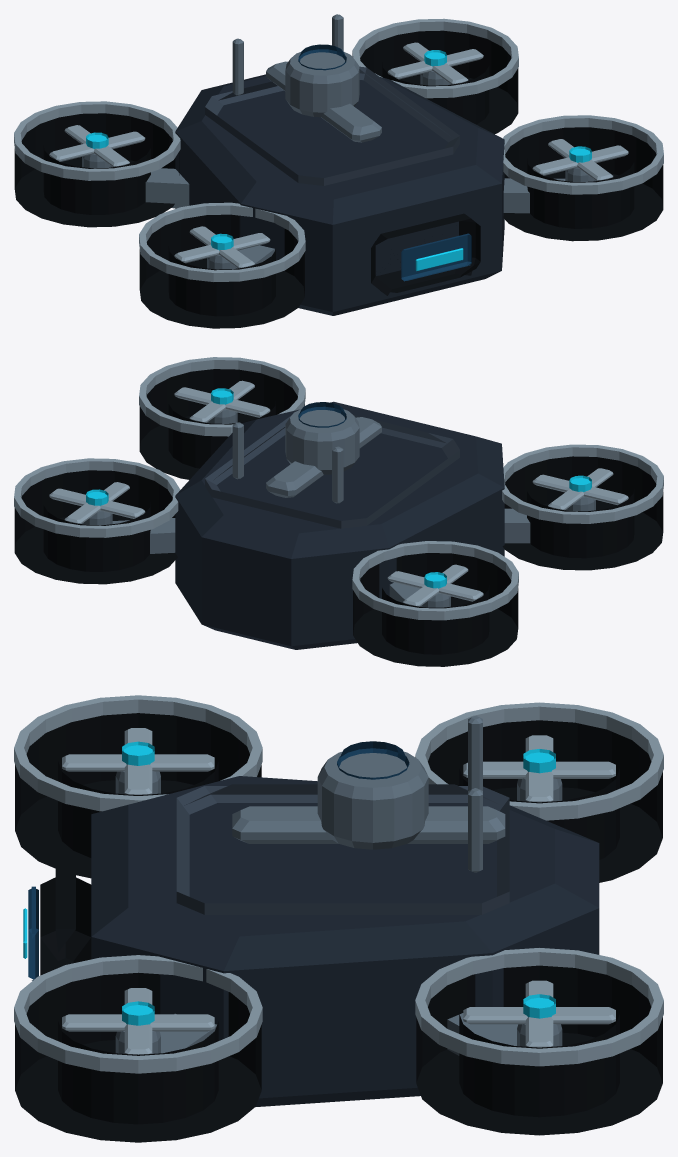
File: SF_ScoutDrone.obj
3 renders of one model, top to bottom at view 1: azimuth 30°, elevation 25°; view 2: azimuth 150°, elevation 25°; view 3: azimuth 270°, elevation 25°, orthographic. The views are drawn at different scales.
Parts seen in each view (by area): view 1: Chassis, Duct1, Duct2, Duct0, Duct3, ArmourTop, DuctAccent2, SensorMast, DuctAccent1, DuctAccent0, DuctAccent3, FrontSensorHousing (+10 smaller); view 2: Chassis, Duct2, Duct3, Duct0, Duct1, DuctAccent2, DuctAccent3, DuctAccent0, ArmourTop, SensorMast, DuctAccent1, Rotor3 (+7 smaller); view 3: Chassis, Duct3, Duct1, Duct0, Duct2, SensorMast, ArmourTop, DuctAccent3, DuctAccent1, DuctAccent0, DuctAccent2, Spine (+9 smaller).
Boxes of the visible parts, x1,y1,x2,y2 form: Chassis: (175,74,504,315); Duct1: (503,127,663,241); Duct2: (14,113,179,227); Duct0: (139,214,304,328); Duct3: (360,30,518,134); ArmourTop: (205,66,459,185); DuctAccent2: (14,101,180,180); SensorMast: (285,44,359,117); DuctAccent1: (503,115,663,194); DuctAccent0: (139,202,305,281); DuctAccent3: (352,18,518,98); FrontSensorHousing: (371,213,480,295); Chassis: (175,401,504,649); Duct2: (353,553,518,666); Duct3: (14,470,177,584); Duct0: (502,456,663,570); Duct1: (139,369,304,479); DuctAccent2: (352,541,518,620); DuctAccent3: (14,458,180,537); DuctAccent0: (502,444,663,523); ArmourTop: (205,414,459,528); SensorMast: (285,402,359,474); DuctAccent1: (139,357,305,436); Rotor3: (49,482,145,525); Chassis: (91,776,599,1107); Duct3: (416,965,662,1135); Duct1: (15,972,261,1142); Duct0: (15,713,261,878); Duct2: (428,720,662,882); SensorMast: (317,741,428,849); ArmourTop: (176,784,509,914); DuctAccent3: (415,948,663,1066); DuctAccent1: (14,955,262,1073); DuctAccent0: (14,695,262,811); DuctAccent2: (415,702,663,820); Spine: (232,806,505,843).
Size of the model in its own units: 2.02 by 0.79 by 1.52.
